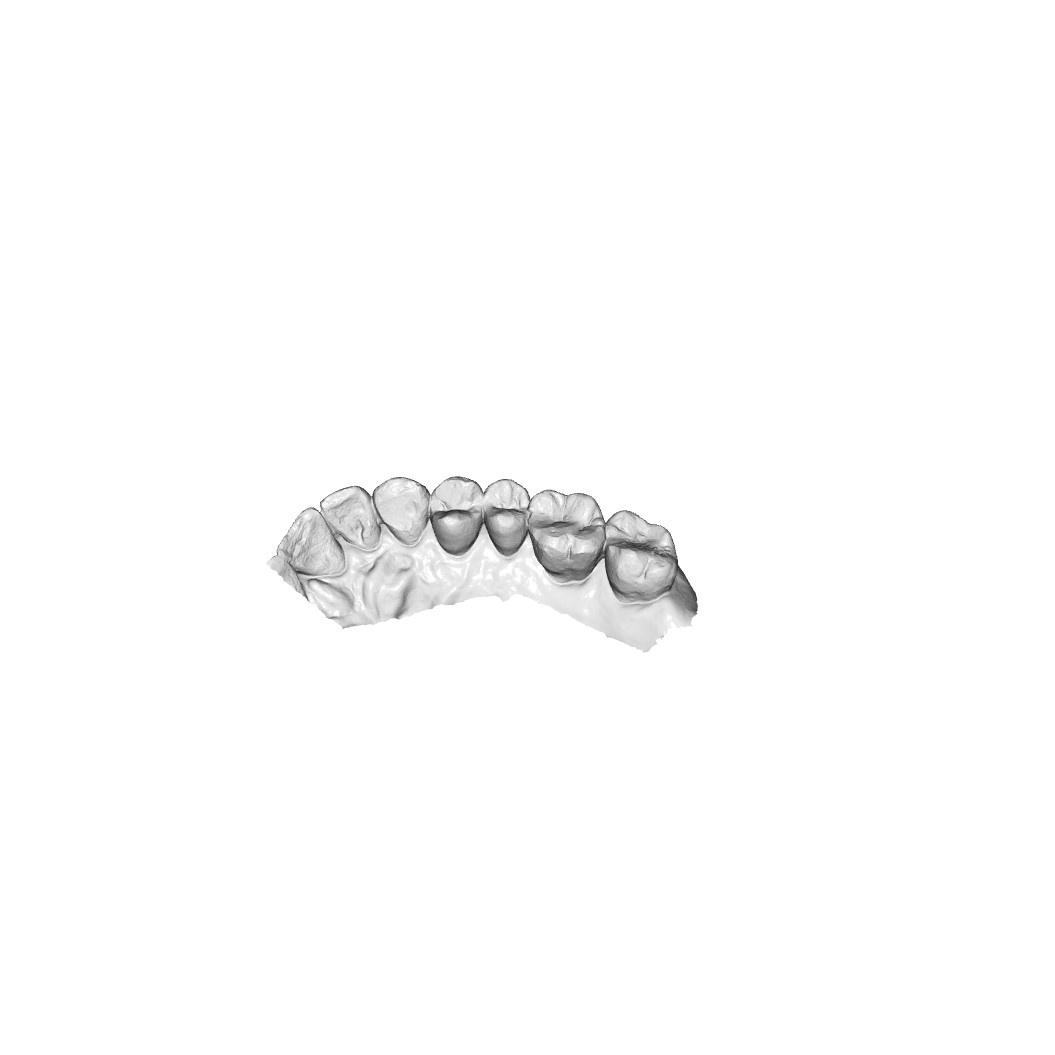canine: (375, 473, 431, 546)
incisor: (276, 506, 349, 584), (320, 487, 384, 550)
molar: (527, 483, 607, 581), (604, 509, 683, 605)
premolar: (432, 476, 486, 554), (485, 479, 530, 560)
